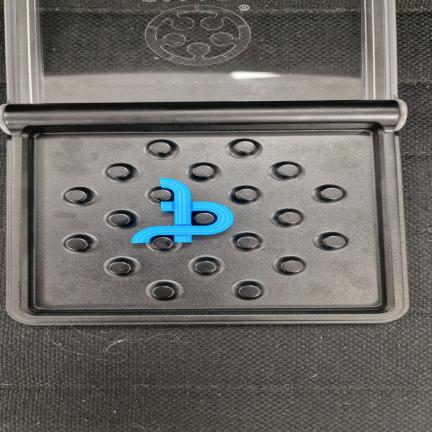B_SkyBlue: (132, 178, 234, 243)
D_Green: (179, 223, 179, 223)
board: (3, 101, 408, 325)
hinge: (0, 101, 409, 127)
pin: (238, 284, 261, 299), (152, 285, 175, 299), (149, 141, 171, 155), (233, 141, 256, 154), (107, 165, 130, 178), (65, 237, 88, 250), (323, 235, 346, 248), (277, 164, 299, 177), (192, 165, 214, 178), (65, 189, 87, 202), (235, 188, 257, 201), (321, 187, 343, 200), (193, 212, 215, 225), (108, 213, 130, 226), (237, 236, 259, 249), (281, 260, 303, 273), (195, 261, 217, 274), (109, 261, 131, 274), (152, 237, 173, 250), (279, 212, 301, 224), (151, 189, 171, 201)
